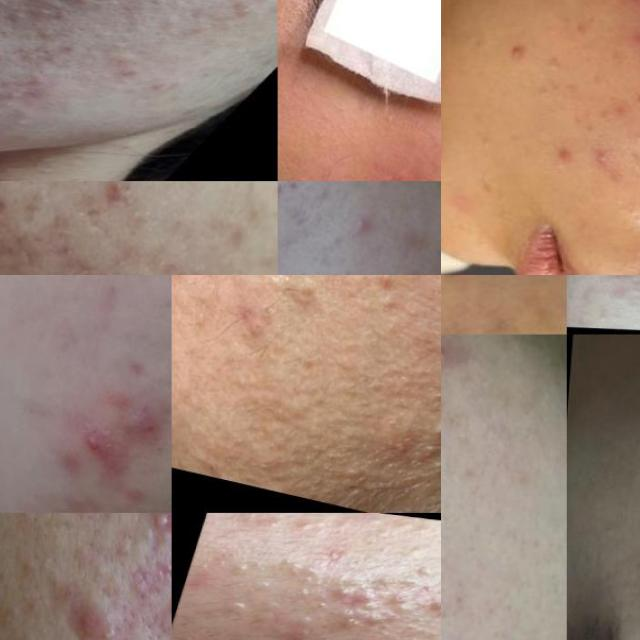acne_scars: (359, 151, 432, 181)
comedone: (0, 0, 83, 35), (336, 197, 381, 246), (332, 606, 400, 635), (594, 510, 630, 549), (292, 611, 321, 640), (244, 315, 272, 345), (354, 587, 387, 612), (286, 561, 334, 578), (224, 596, 258, 618), (257, 299, 281, 325), (412, 560, 441, 579), (112, 81, 146, 97), (308, 596, 338, 614), (423, 415, 441, 444), (289, 518, 317, 534), (372, 275, 399, 291), (262, 596, 287, 612), (592, 310, 612, 326), (233, 560, 251, 574), (390, 592, 408, 606)
papule: (104, 392, 168, 458), (72, 415, 128, 479), (489, 11, 542, 63), (534, 120, 583, 171), (155, 15, 227, 42), (66, 599, 113, 640), (16, 72, 57, 90), (221, 0, 263, 17), (622, 27, 640, 65), (48, 40, 88, 57), (12, 84, 49, 101), (109, 64, 145, 81), (420, 594, 441, 617), (4, 114, 36, 129), (0, 50, 12, 64)
pustule: (580, 130, 622, 172), (142, 513, 172, 546), (617, 73, 640, 105)
